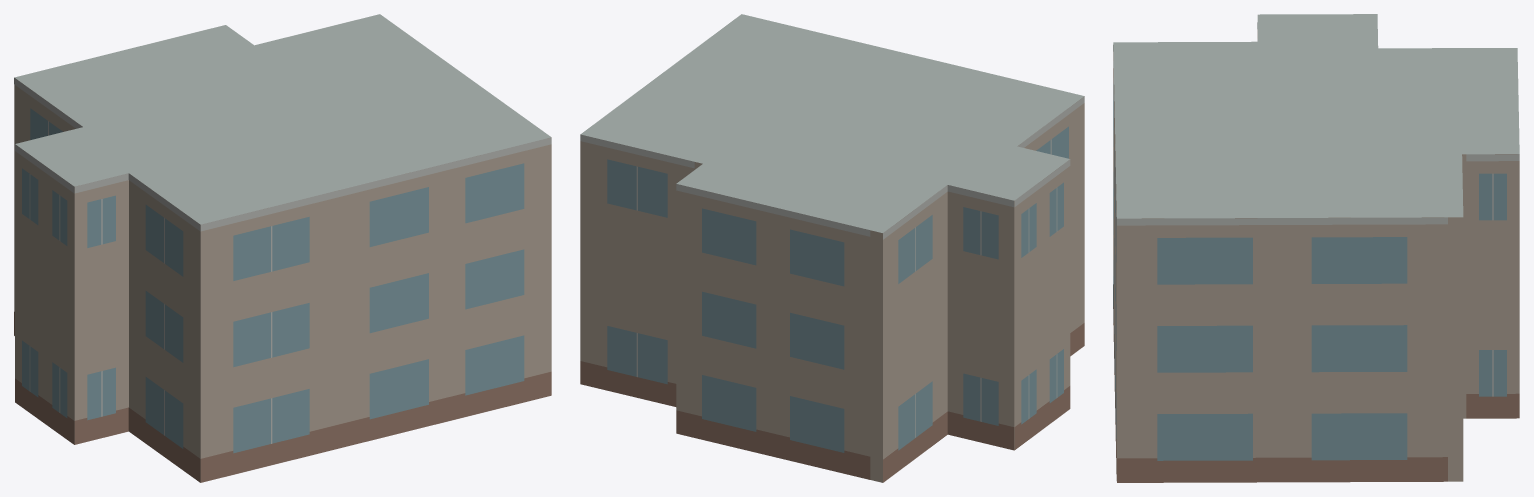
Rendered from survey-upis-32471825.glb.
The picture shows the model from 3 angles, left to right: view 1: azimuth 30°, elevation 25°; view 2: azimuth 150°, elevation 25°; view 3: azimuth 270°, elevation 25°; orthographic projection. The views are drawn at different scales.
Visible parts, largest first — view 1: survey-upis-32471825.tmp; view 2: survey-upis-32471825.tmp; view 3: survey-upis-32471825.tmp.
Part boxes in pixels (x1=…): survey-upis-32471825.tmp: x1=14, y1=14, x2=551, y2=482; survey-upis-32471825.tmp: x1=580, y1=14, x2=1084, y2=482; survey-upis-32471825.tmp: x1=1113, y1=14, x2=1519, y2=482.
Bounding box in the file's own units: 15.19 × 9.15 × 12.76.
